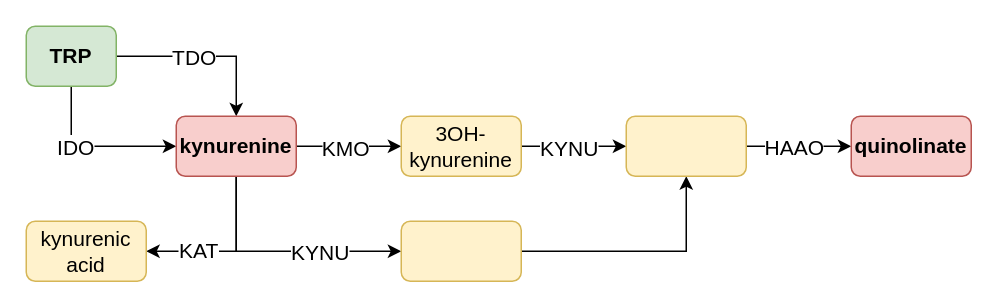
Some shapes in this 998 by 308 pixel diagram are drawn without their labels. Here are the shapes that lost their labels. From the top down, the centre of each, then its label:
point 685,145: 3OH-anthranilate
point 460,250: anthranilate
